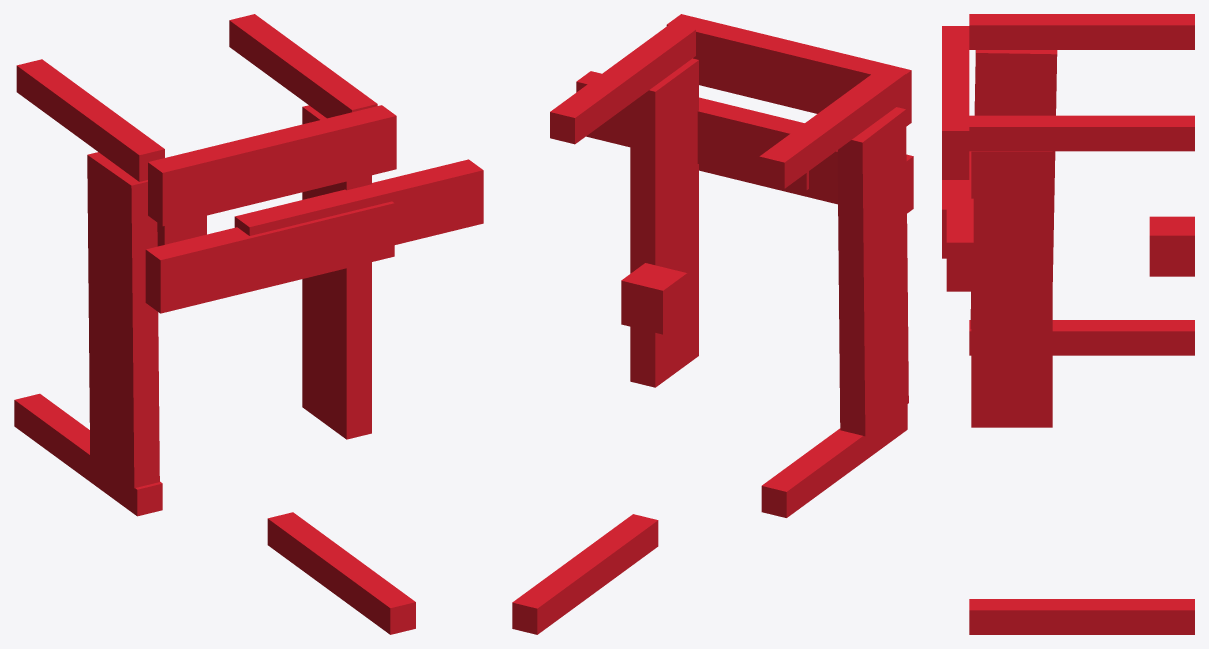
Rendered from tinker.obj.
The picture shows the model from 3 angles, left to right: view 1: azimuth 30°, elevation 25°; view 2: azimuth 150°, elevation 25°; view 3: azimuth 270°, elevation 25°; orthographic projection. The views are drawn at different scales.
Parts seen in each view (by area): view 1: obj_0; view 2: obj_0; view 3: obj_0.
Boxes of the visible parts, x1,y1,x2,y2 form: obj_0: [14, 14, 483, 634]; obj_0: [512, 14, 913, 634]; obj_0: [942, 14, 1194, 634].
Bounding box in the file's own units: 158 × 243 × 112.
